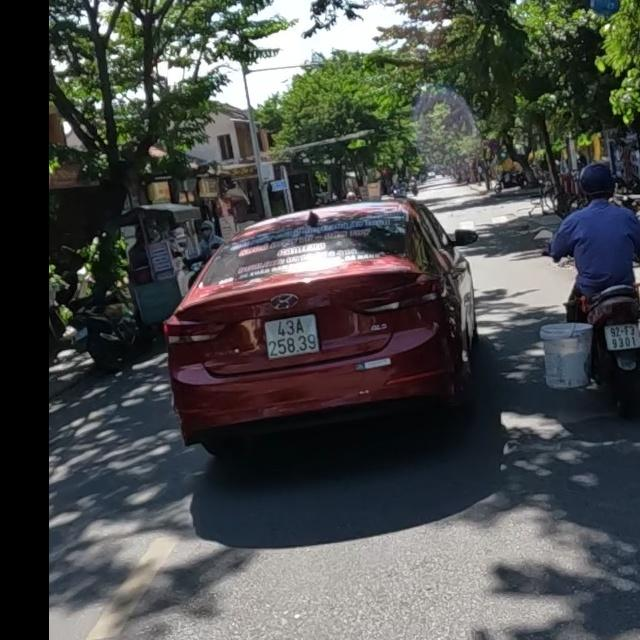license-plate: (262, 312, 321, 361), (603, 321, 639, 352)
